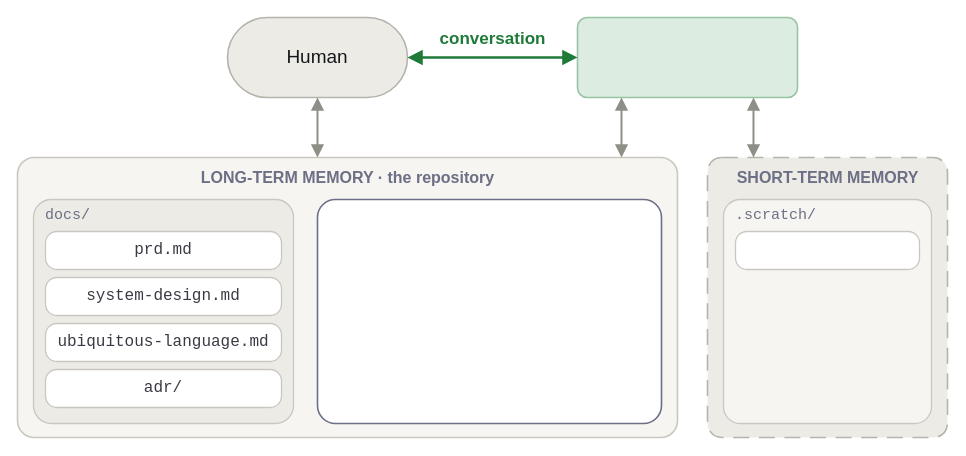
This 966x456 diagram has some shape labels left out. The centre of each missing label's shape, as x and y in pixels:
agent-team: point (687, 57)
code · tests: point (489, 311)
handoff.jsonl: point (827, 250)
